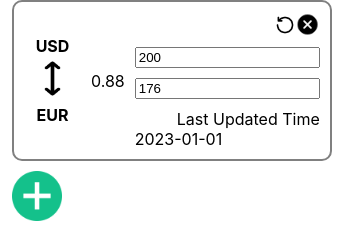
Test: CurrencyConverter component › updates target value and recalculates source value
The image size is (349, 238).
Replace the text in the field with test id "target-text-box" with "200" at (227, 88), box left=135, top=78, right=320, bottom=99
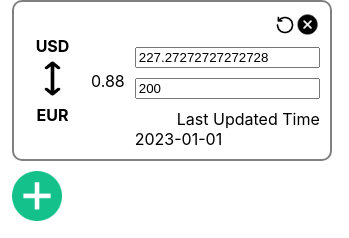
Check: the field with test id "source-text-box" holds "227.27272727272728", box left=135, top=47, right=320, bottom=68
